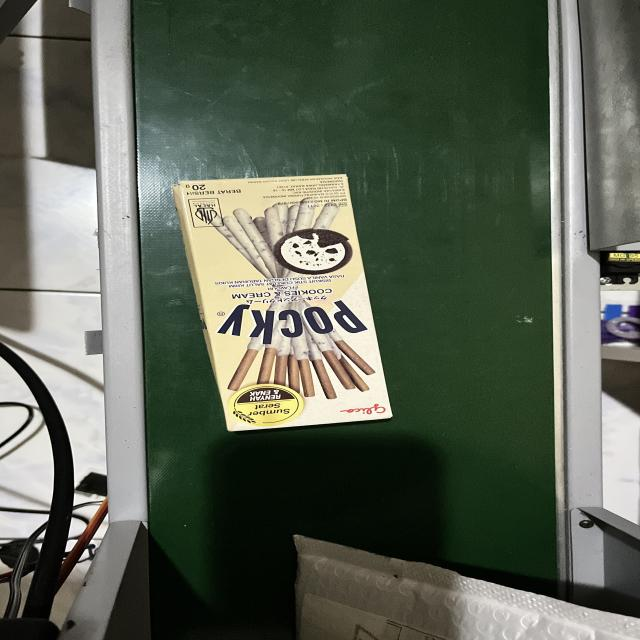Kertas: (180, 184, 400, 433)
